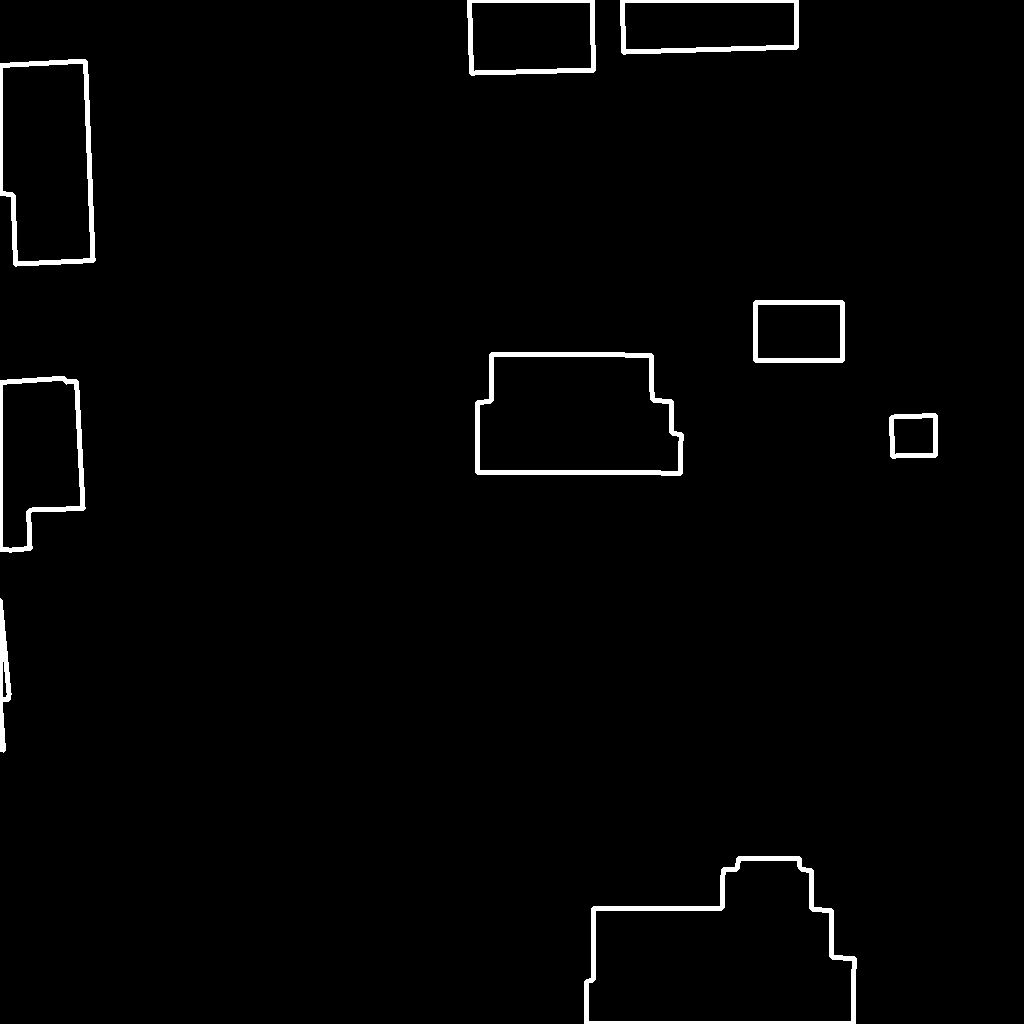building: (586, 858, 855, 1024), (477, 354, 682, 474), (0, 61, 94, 265), (0, 378, 84, 551), (622, 0, 798, 53), (469, 0, 595, 74), (755, 302, 844, 361), (891, 415, 937, 457), (0, 595, 10, 751)
